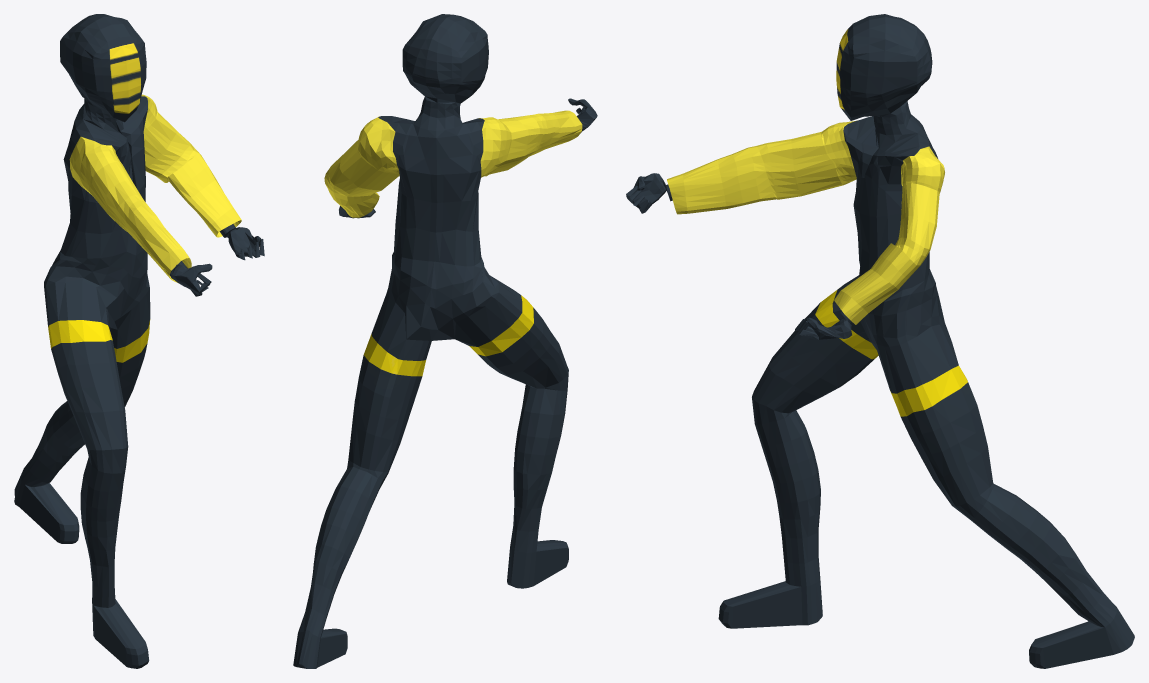
Rendered from Sentry_Attack_000033.obj.
3 views of the same model, side by side, from view 1: azimuth 30°, elevation 25°; view 2: azimuth 150°, elevation 25°; view 3: azimuth 270°, elevation 25° (orthographic). The views are drawn at different scales.
Visible parts, largest first — view 1: Cube; view 2: Cube; view 3: Cube.
Boxes of the visible parts, bbox=[...] form: Cube: bbox=[14, 14, 264, 668]; Cube: bbox=[293, 14, 597, 668]; Cube: bbox=[626, 14, 1134, 668].
Size of the model in its own units: 1.29 by 3.67 by 2.7.
